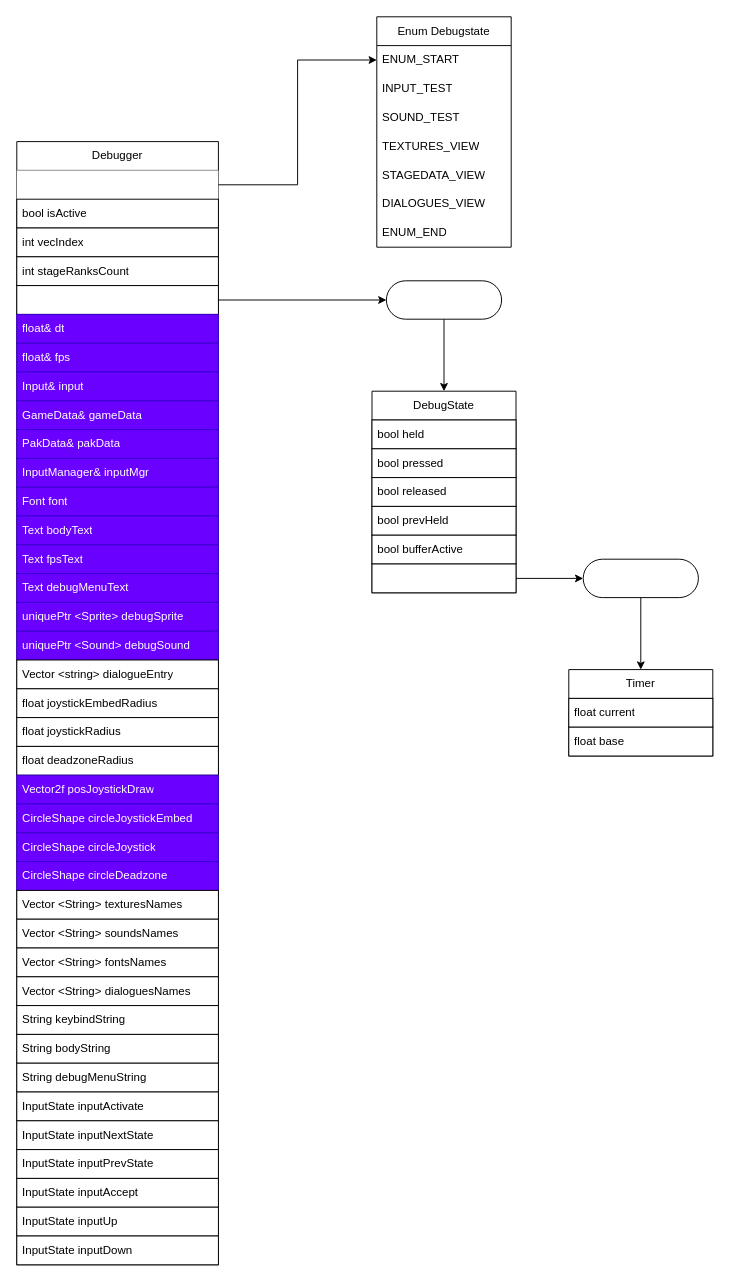
The diagram is 730 pixels wide and 1282 high, and some of its shapes have lost their labels. The shapes that lost their labels are listed below. From the top down, each one's centre as x and y in pixels, then its label:
the point at 117,184: DebugState debugState
the point at 117,299: unordmap<string, DebugState> debugStateNames
the point at 443,299: inputTypes.h
the point at 443,578: Timer alarmBuffer
the point at 640,578: gameplay Types.h
